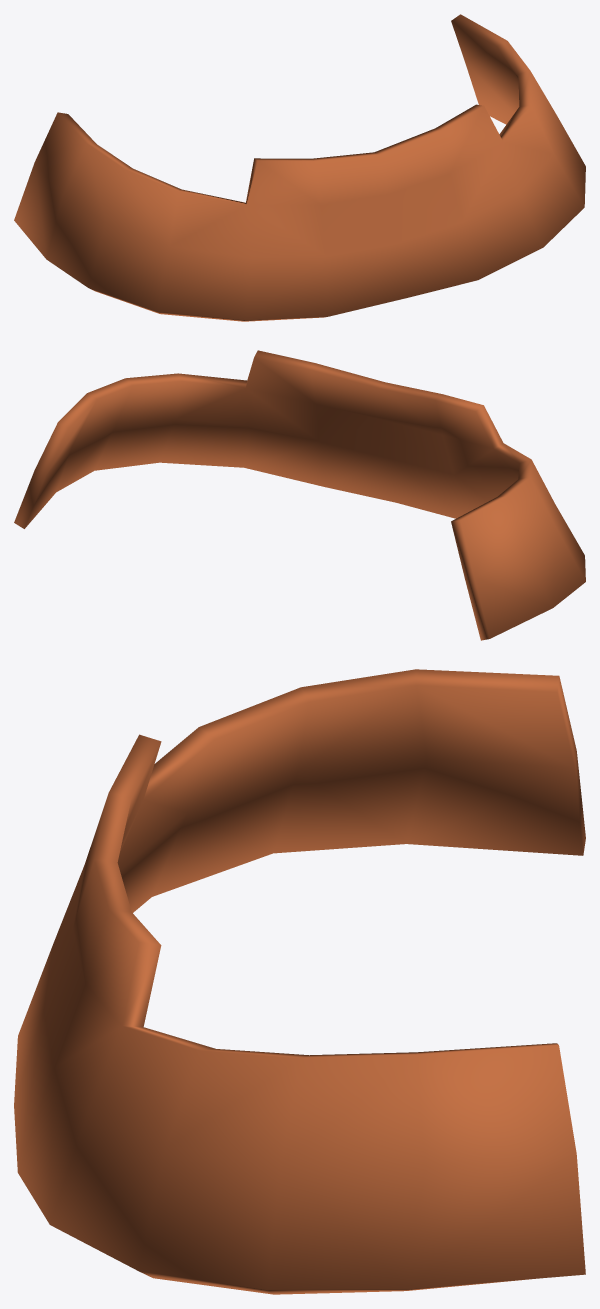
File: Armor_Fauld.fbx
3 views of the same model, one above another, from view 1: azimuth 30°, elevation 25°; view 2: azimuth 150°, elevation 25°; view 3: azimuth 270°, elevation 25° (orthographic). The views are drawn at different scales.
Visible parts, largest first — view 1: Armor_Fauld; view 2: Armor_Fauld; view 3: Armor_Fauld.
Boxes of the visible parts, x1,y1,x2,y2 form: Armor_Fauld: [14, 14, 585, 321]; Armor_Fauld: [14, 350, 585, 640]; Armor_Fauld: [14, 669, 585, 1294].
Size of the model in its own units: 0.3284 by 0.091 by 0.1709.
